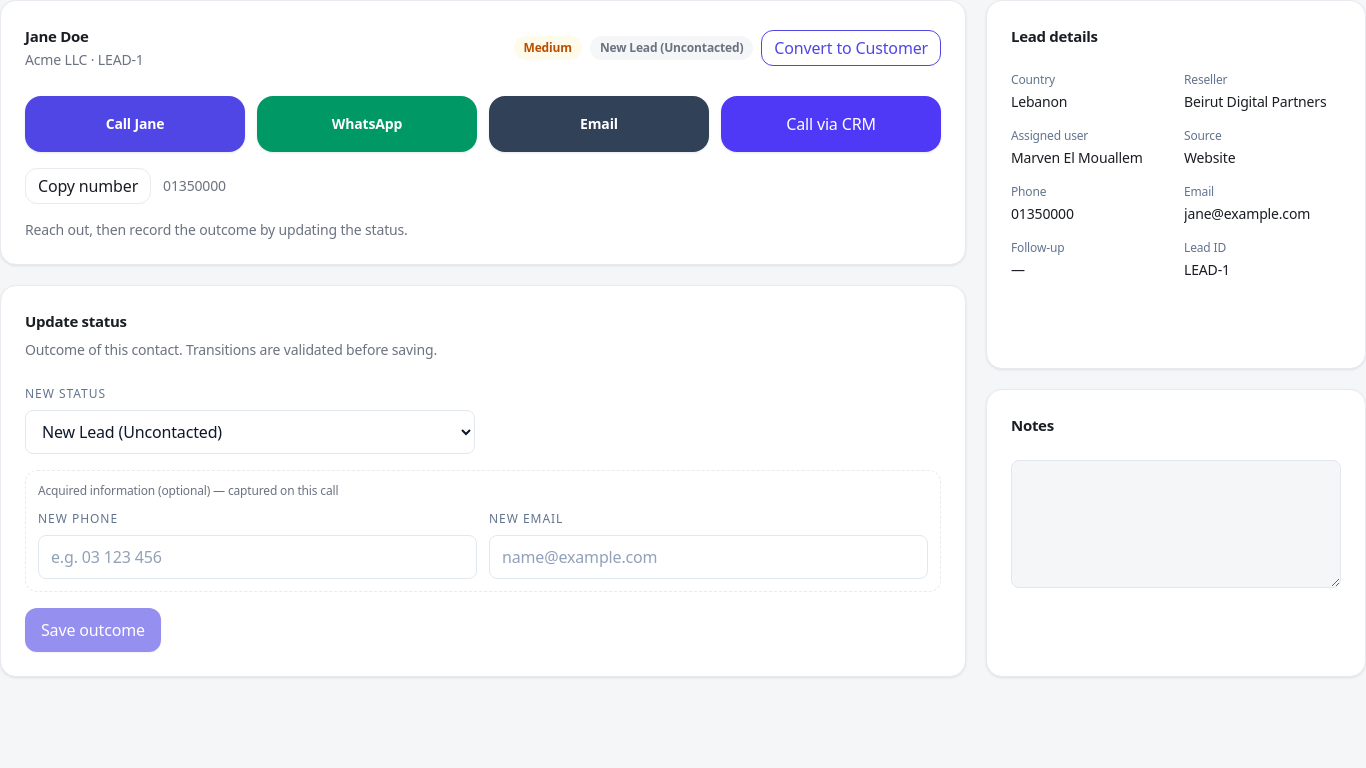
Test case: LeadCallScreen — CRM dial button DIAL-R1 cooldown guard › renders the honest simulated note from the mocked 202 dial response and keeps the button disabled during the post-request cooldown (DIAL-R1)
The image size is (1366, 768).
Click the button "Call via CRM" at (831, 124), box [721,96,941,152]
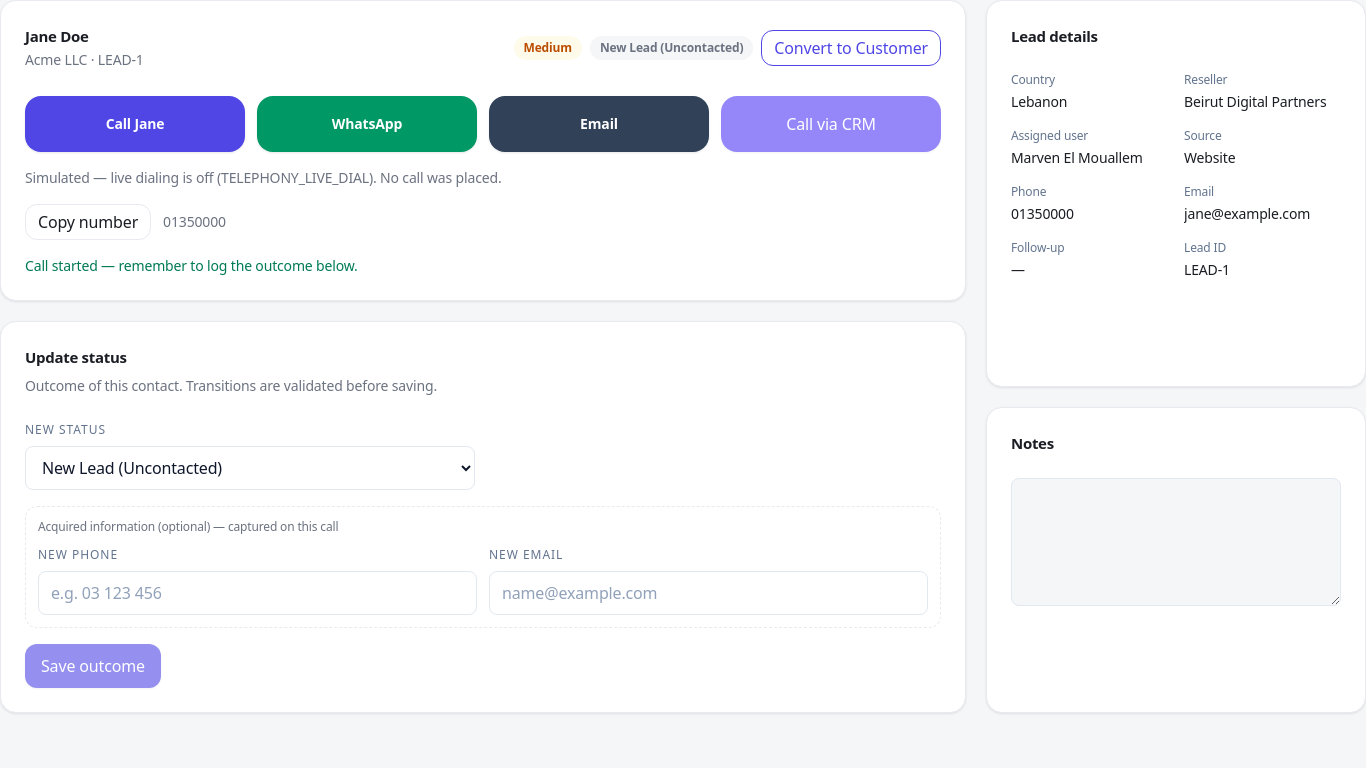
Expected: the text "Simulated — live dialing is off (TELEPHONY_LIVE_DIAL). No call was placed." is shown, [25,168,502,186]
Expected: the button "Call via CRM" is disabled, [721,96,941,152]
